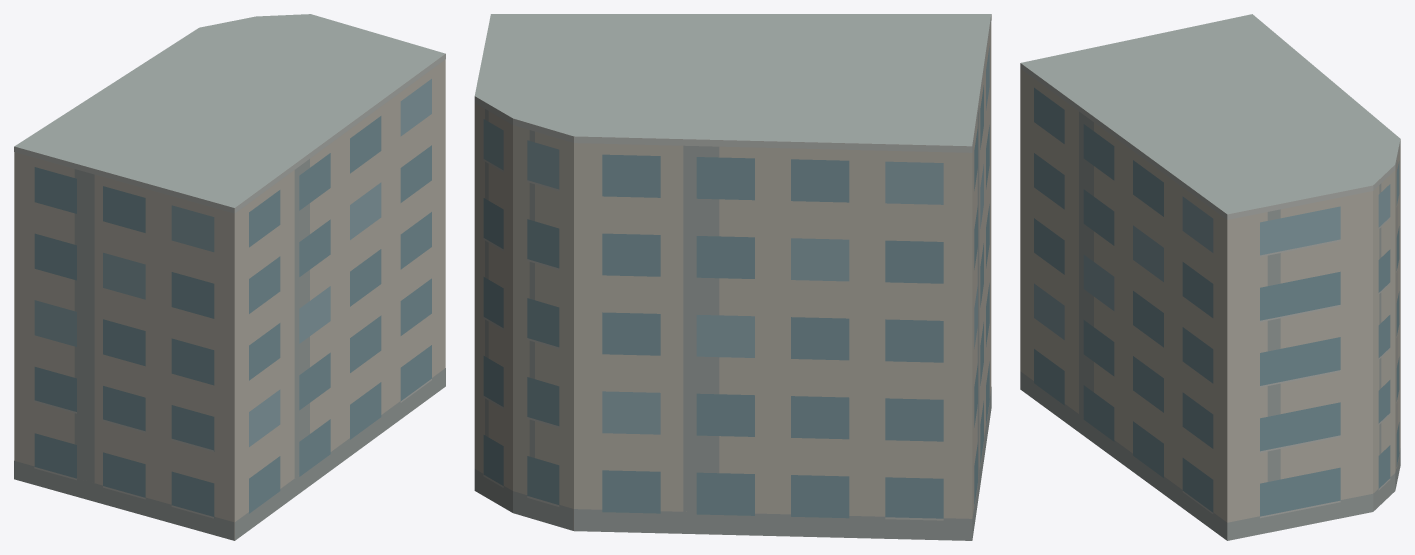
Rendered from survey-upis-32627679.glb.
3 views of the same model, side by side, from view 1: azimuth 30°, elevation 25°; view 2: azimuth 150°, elevation 25°; view 3: azimuth 270°, elevation 25° (orthographic). The views are drawn at different scales.
Parts seen in each view (by area): view 1: survey-upis-32627679.tmp; view 2: survey-upis-32627679.tmp; view 3: survey-upis-32627679.tmp.
Boxes of the visible parts, x1,y1,x2,y2 form: survey-upis-32627679.tmp: (14,14,445,540); survey-upis-32627679.tmp: (474,14,991,540); survey-upis-32627679.tmp: (1020,14,1400,540).
Size of the model in its own units: 19.1 by 14.5 by 15.31.
